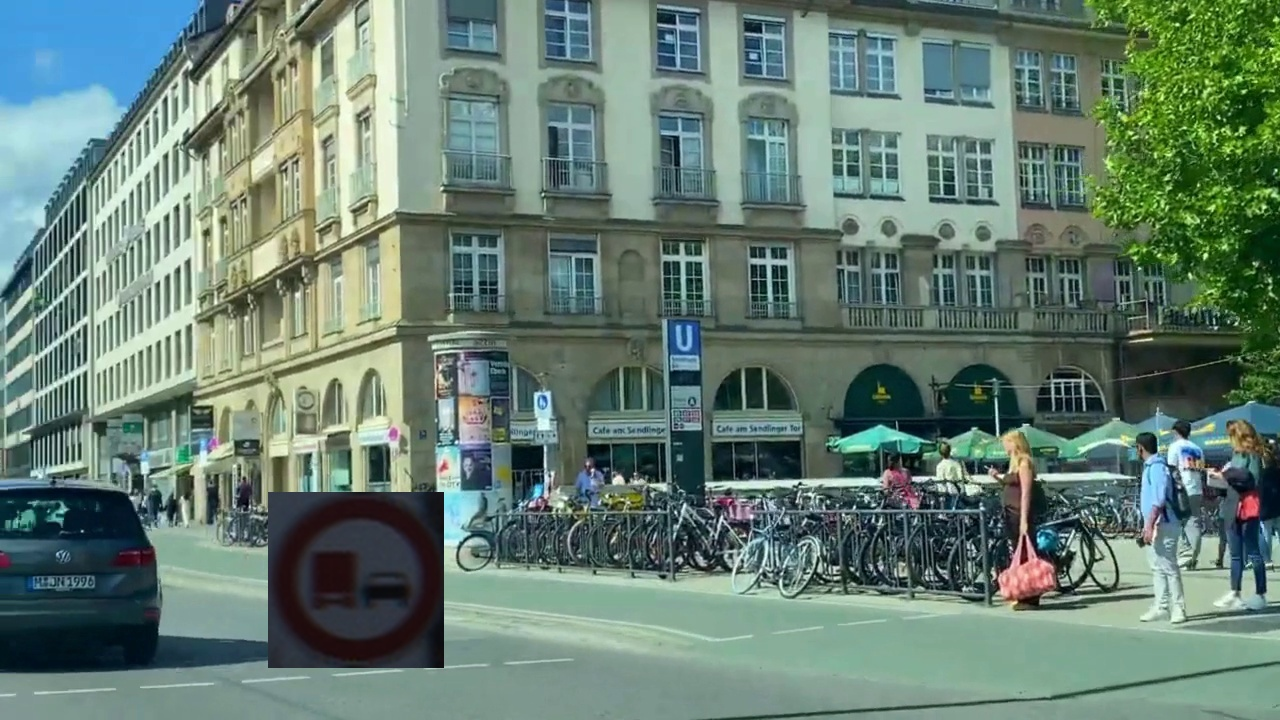No pass >3.5t: (268, 492, 444, 668)
